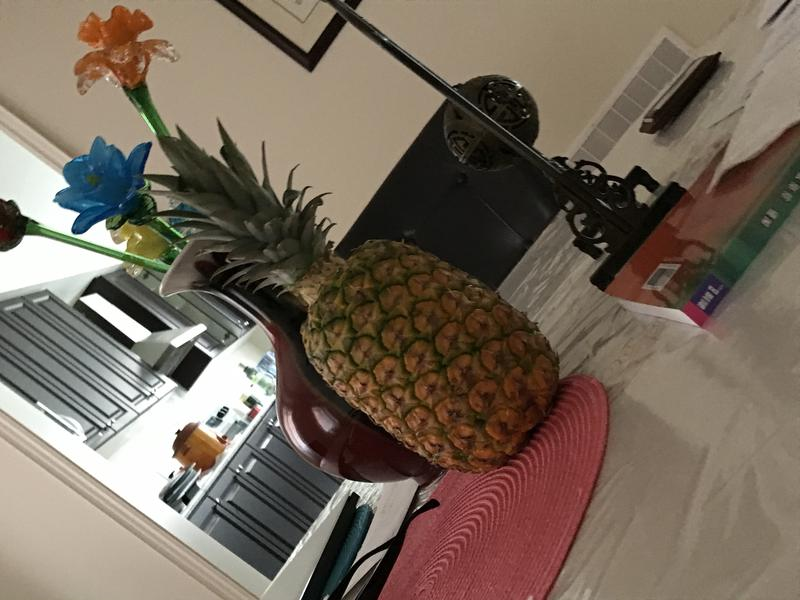pineapple: (125, 105, 573, 484)
